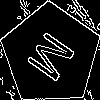M: (25, 29, 84, 90)
